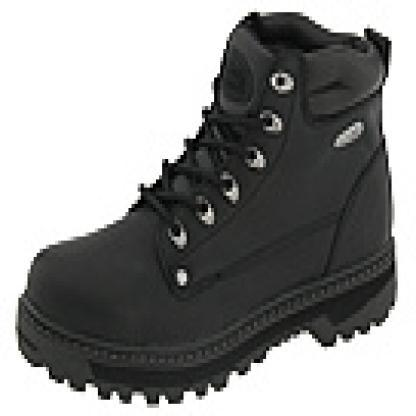bota: (22, 10, 403, 407)
